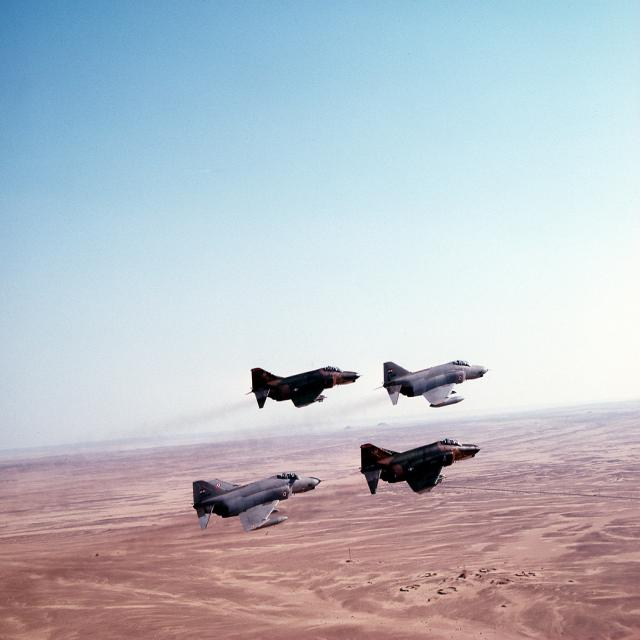MIL_Plane: (191, 472, 326, 533), (349, 439, 483, 495), (379, 359, 486, 408), (249, 365, 361, 409)
